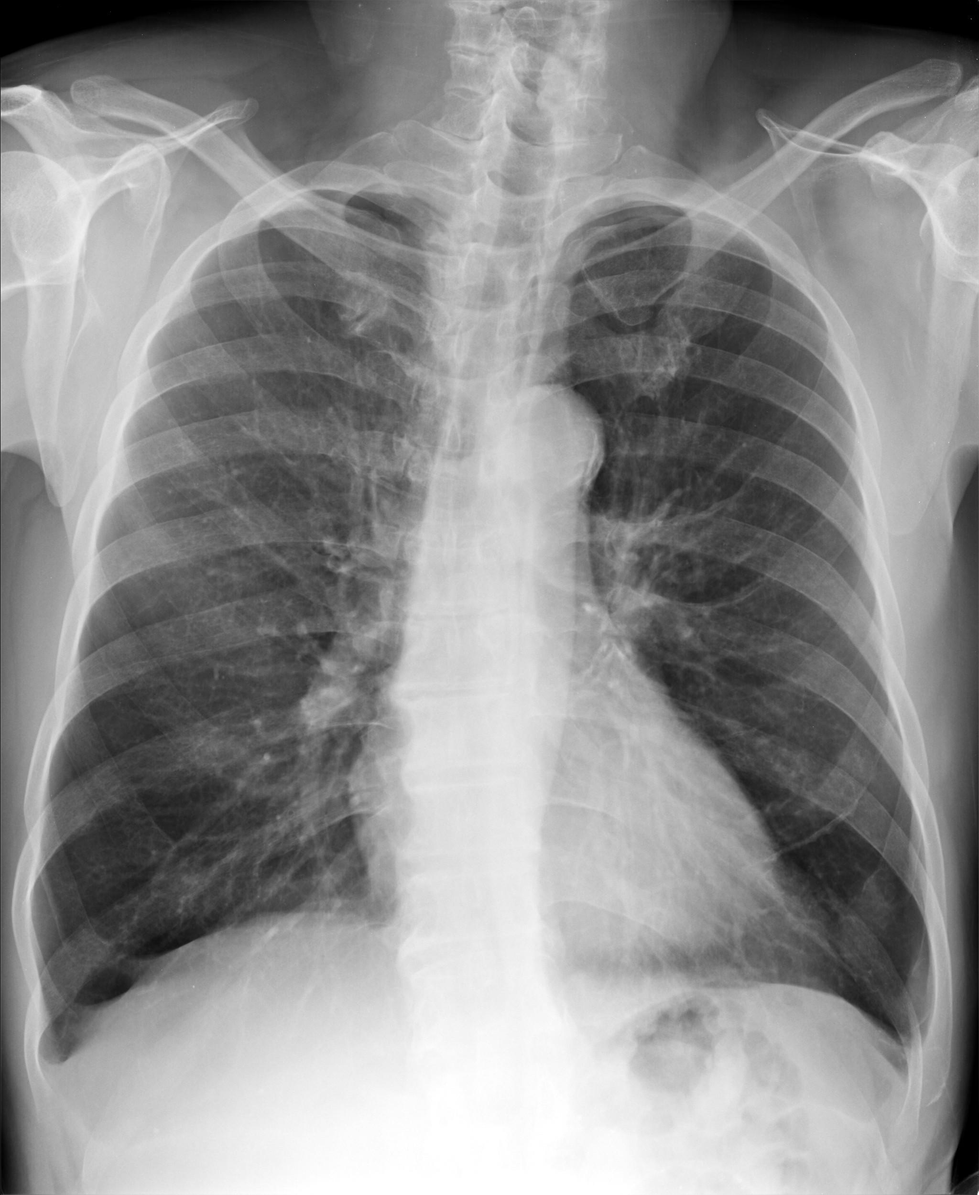Aortic enlargement: (485, 381, 607, 497)
Pleural thickening: (33, 1003, 105, 1079), (869, 1010, 935, 1079)
